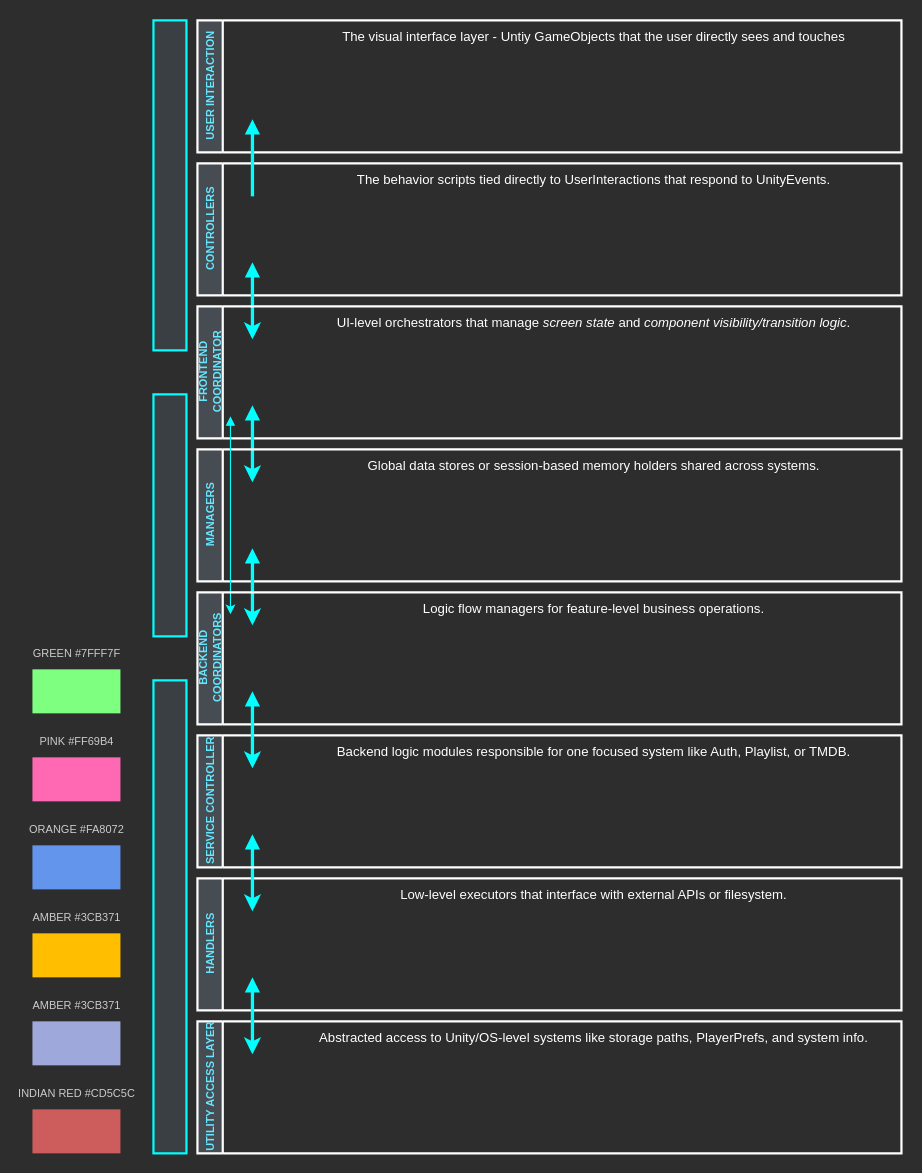
The diagram is 922 pixels wide and 1173 high, and some of its shapes have lost their labels. Each missing label, with the centre of its shape:
"BACK END" goes at point 169,916.
"BRIDGE" goes at point 169,515.
"FRONT END" goes at point 169,185.
